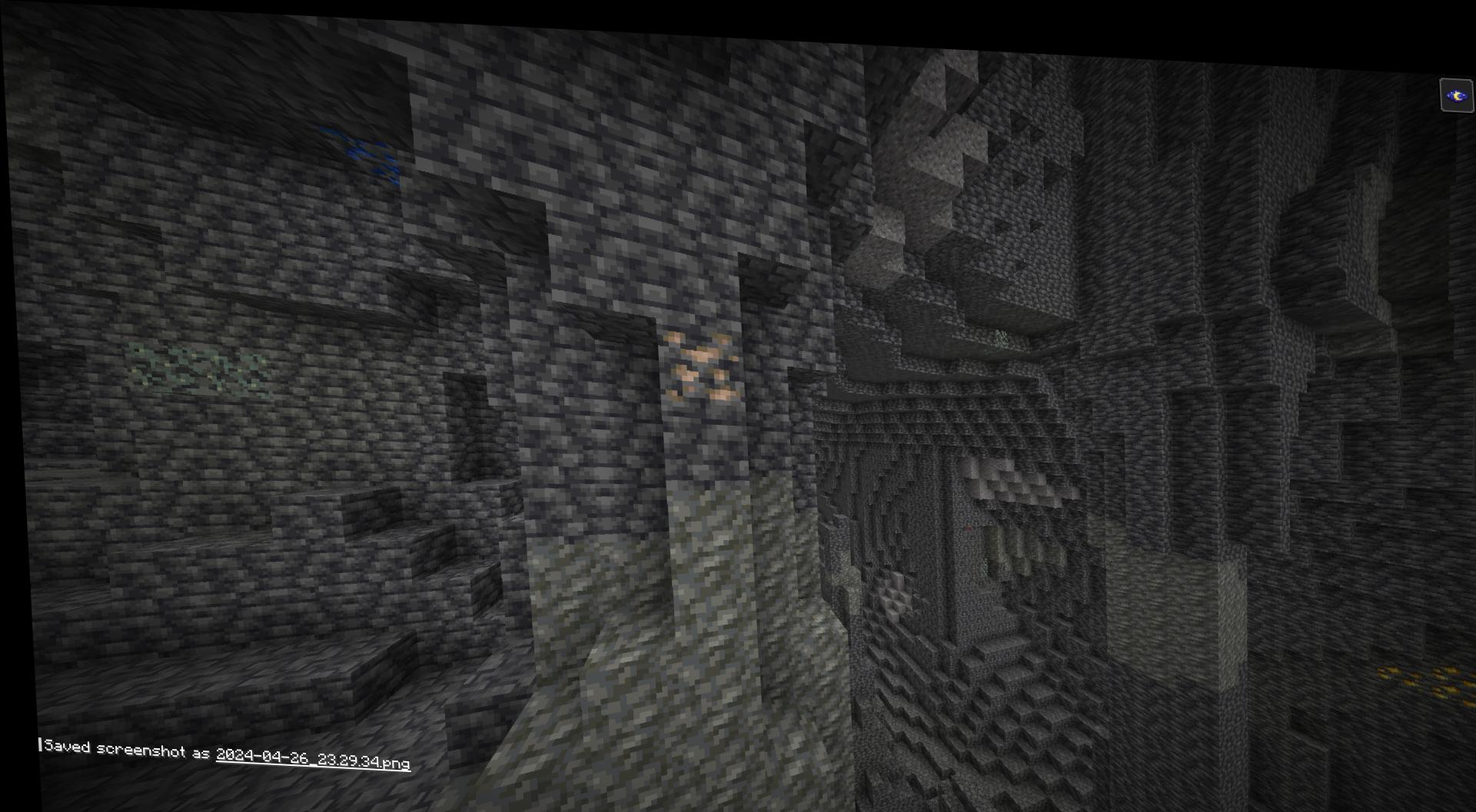gold ore: (1415, 643, 1476, 700), (1372, 645, 1418, 680)
iron ore: (649, 311, 752, 404)
